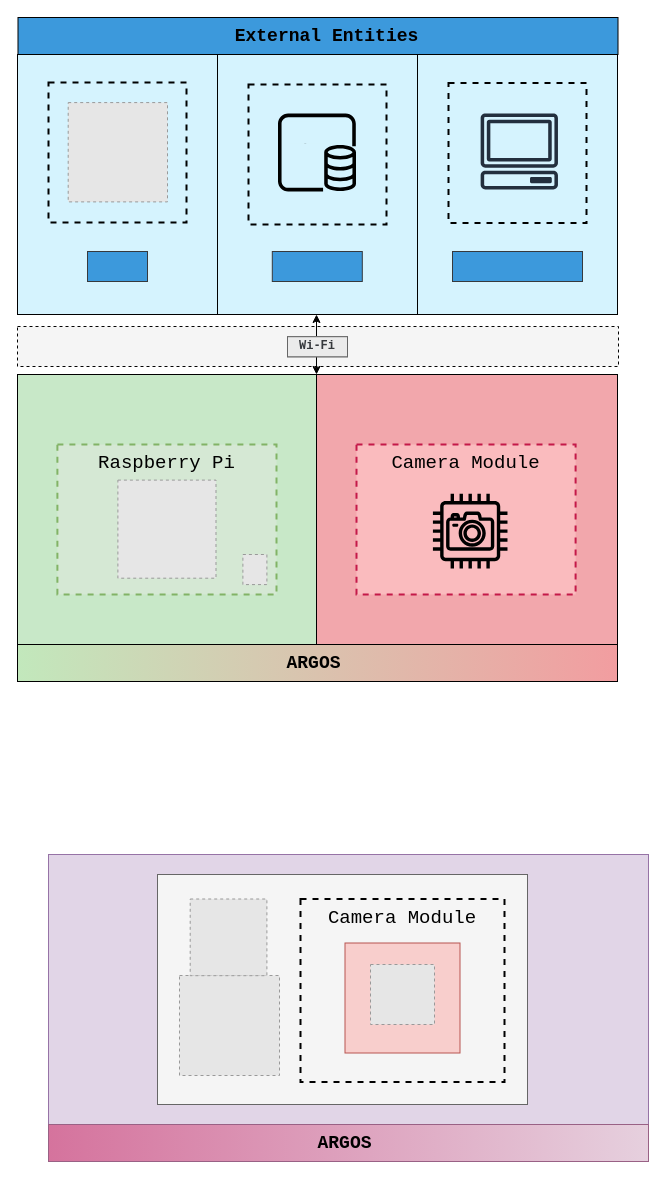
Image size: 666x1179. Some labels were removed from this diagram. Grey dashed boxes stand in for pictures. The centre of each missing label's shape, as x and y in pixels:
Cloud: [117,266]
Database: [316,266]
Remote Client: [517,266]
